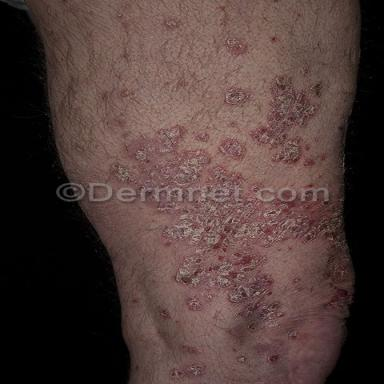Psoriasis: (154, 202, 354, 333), (109, 125, 264, 187), (248, 74, 325, 165), (218, 138, 247, 161), (223, 87, 252, 106), (171, 363, 205, 379), (223, 37, 246, 57), (157, 307, 170, 319), (165, 18, 179, 29), (182, 345, 199, 353), (267, 354, 279, 364), (196, 133, 209, 142), (304, 157, 315, 167), (288, 331, 298, 340), (237, 355, 245, 363)
